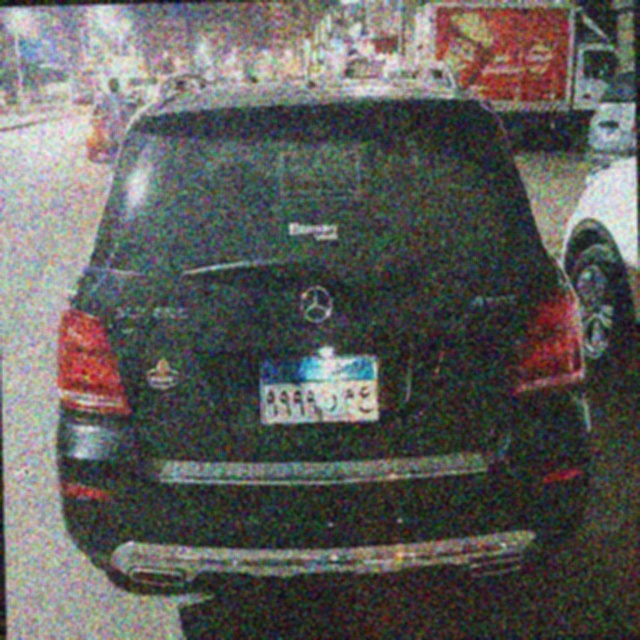License Plate: (256, 351, 382, 429)
